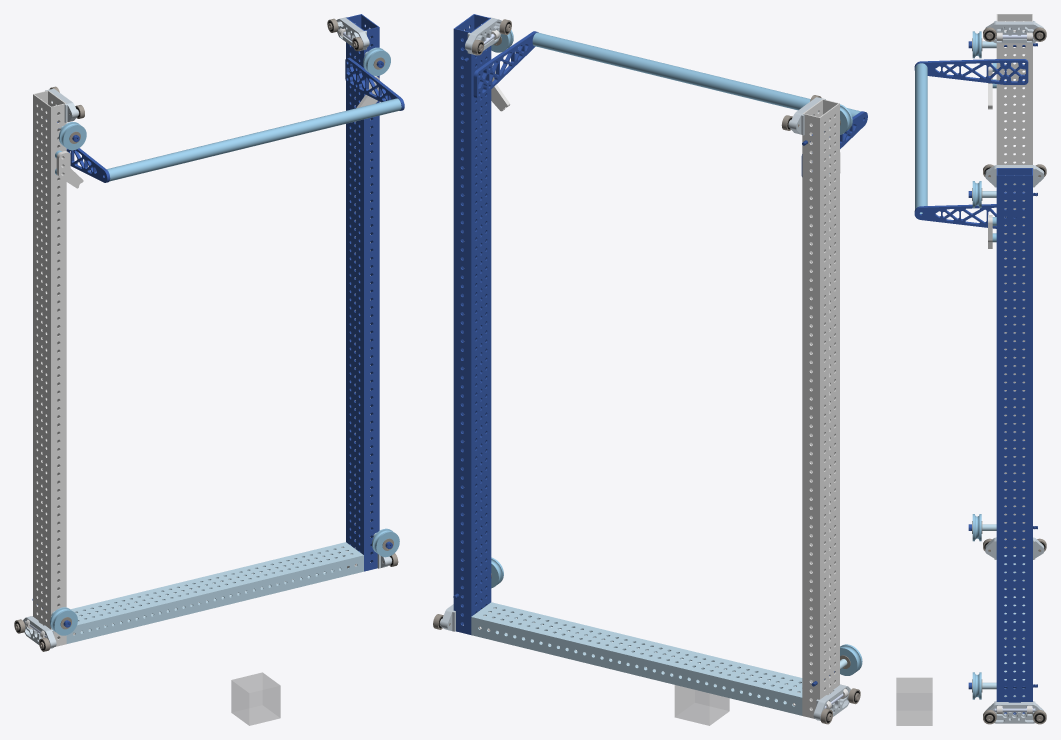
3 views of the same model, side by side, from view 1: azimuth 30°, elevation 25°; view 2: azimuth 150°, elevation 25°; view 3: azimuth 270°, elevation 25° (orthographic). The views are drawn at different scales.
Visible parts, largest first — view 1: 1625-25-P-02201, 1625-25-P-02203, 1625-25-P-02202, 1625-25-P-02205, Origin Cube, 1625-25-P-02213 (×2); view 2: 1625-25-P-02201, 1625-25-P-02203, 1625-25-P-02202, 1625-25-P-02205, Origin Cube, 1625-25-P-02213; view 3: 1625-25-P-02203, 1625-25-P-02201, 1625-25-P-02213 (×2), WCP-0897-001 Rev1 (×4), 1625-25-P-02205, Origin Cube, 1625-25-P-02202.
Part boxes in pixels (bbox=[...]): 1625-25-P-02201: bbox=[33, 90, 66, 646]; 1625-25-P-02203: bbox=[346, 14, 379, 571]; 1625-25-P-02202: bbox=[66, 542, 363, 643]; 1625-25-P-02205: bbox=[107, 98, 401, 181]; Origin Cube: bbox=[231, 672, 280, 725]; 1625-25-P-02213 (×2): bbox=[66, 57, 404, 182]; 1625-25-P-02201: bbox=[802, 99, 839, 718]; 1625-25-P-02203: bbox=[453, 14, 491, 634]; 1625-25-P-02202: bbox=[471, 602, 812, 715]; 1625-25-P-02205: bbox=[532, 32, 860, 116]; Origin Cube: bbox=[675, 685, 729, 725]; 1625-25-P-02213: bbox=[473, 31, 538, 98]; 1625-25-P-02203: bbox=[996, 168, 1032, 714]; 1625-25-P-02201: bbox=[996, 14, 1032, 548]; 1625-25-P-02213 (×2): bbox=[914, 59, 1028, 228]; WCP-0897-001 Rev1 (×4): bbox=[985, 20, 1044, 723]; 1625-25-P-02205: bbox=[915, 63, 927, 213]; Origin Cube: bbox=[896, 678, 932, 725]; 1625-25-P-02202: bbox=[1004, 555, 1025, 696].
Bounding box in the file's own units: 0.575 × 0.9588 × 0.2095.
